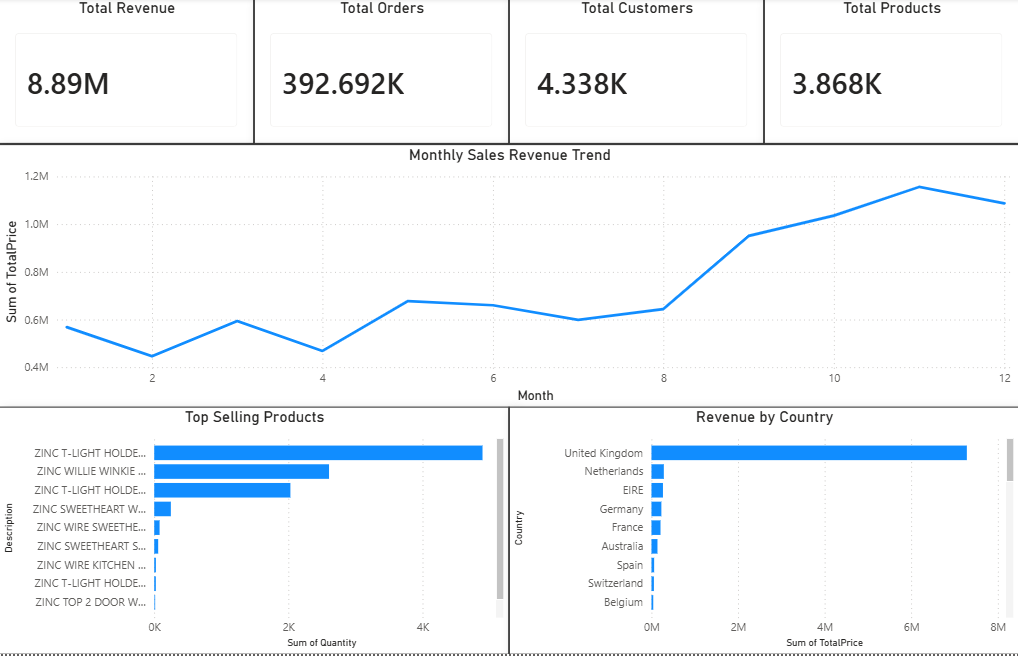

Layout of this report page (visuals, bound fields, positions):
{"tool":"powerbi","page":{"name":"Page 1","canvas":[1280,720],"ordinal":0},"visuals":[{"type":"cardVisual","title":"Total Revenue","fields":{"Data":["Sum(cleaned_online_retail.TotalPrice)"]},"box":[0,0,280,160],"z":0},{"type":"cardVisual","title":"Total Orders","fields":{"Data":["CountNonNull(cleaned_online_retail.InvoiceNo)"]},"box":[280,0,280,160],"z":1000},{"type":"cardVisual","title":"Total Customers","fields":{"Data":["Count(cleaned_online_retail.CustomerID)"]},"box":[560,0,280,160],"z":2000},{"type":"cardVisual","title":"Total Products","fields":{"Data":["Count(cleaned_online_retail.Description)"]},"box":[840,0,280,160],"z":3000},{"type":"lineChart","title":"Monthly Sales Revenue Trend","fields":{"Category":["cleaned_online_retail.Month"],"Y":["Sum(cleaned_online_retail.TotalPrice)"]},"box":[0,160,1120,290],"z":4000},{"type":"clusteredBarChart","title":"Top Selling Products","fields":{"Category":["cleaned_online_retail.Description"],"Y":["Sum(cleaned_online_retail.Quantity)"]},"box":[0,448.3,560,271.7],"z":5000},{"type":"clusteredBarChart","title":"Revenue by Country","fields":{"Category":["cleaned_online_retail.Country"],"Y":["Sum(cleaned_online_retail.TotalPrice)"]},"box":[560,448.3,560,271.7],"z":5001}]}

Visuals, with their boxes on the page's 1280x720 design canvas (x1, y1, x2, y2). These are canvas units, not pixel positions in the 1018x656 screenshot, which may show the page scaled, cropped or inside an application window:
"Total Revenue" cardVisual: 0:0:280:160
"Total Orders" cardVisual: 280:0:560:160
"Total Customers" cardVisual: 560:0:840:160
"Total Products" cardVisual: 840:0:1120:160
"Monthly Sales Revenue Trend" lineChart: 0:160:1120:450
"Top Selling Products" clusteredBarChart: 0:448:560:720
"Revenue by Country" clusteredBarChart: 560:448:1120:720
